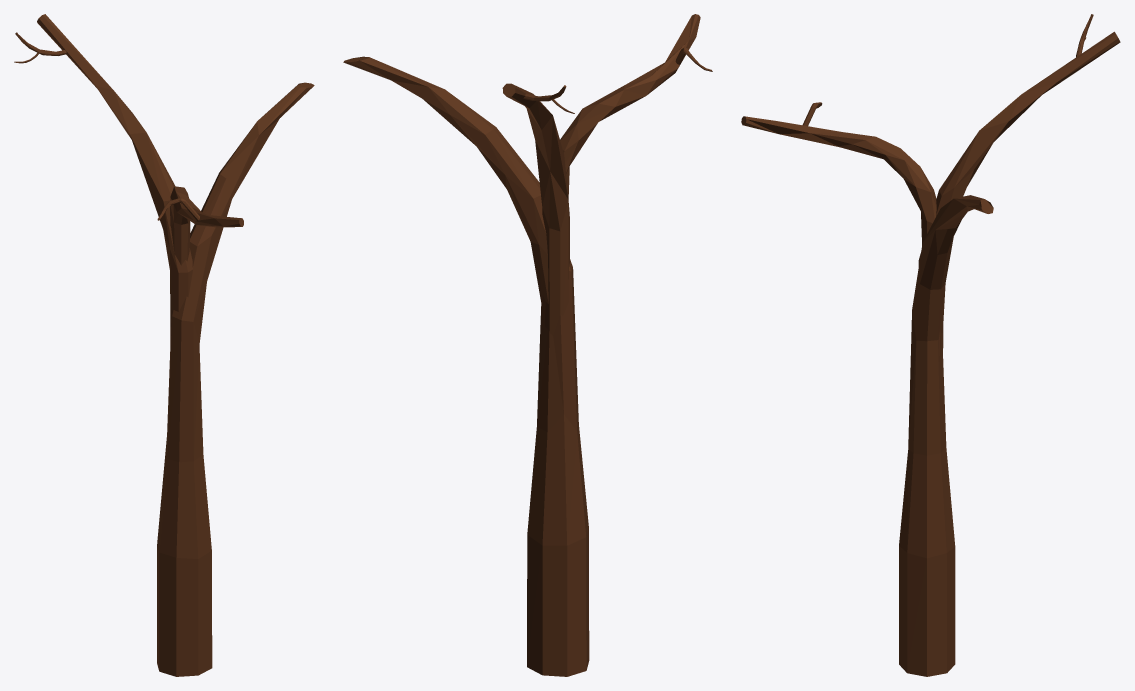
Rendered from deadTree.fbx.
The picture shows the model from 3 angles, left to right: view 1: azimuth 30°, elevation 25°; view 2: azimuth 150°, elevation 25°; view 3: azimuth 270°, elevation 25°; orthographic projection. The views are drawn at different scales.
Visible parts, largest first — view 1: Cylinder, Cylinder_1_3, Cylinder_2; view 2: Cylinder, Cylinder_1_3, Cylinder_2; view 3: Cylinder, Cylinder_1_3, Cylinder_2.
Part boxes in pixels (bbox=[...]): Cylinder: bbox=[157, 82, 314, 676]; Cylinder_1_3: bbox=[37, 14, 192, 346]; Cylinder_2: bbox=[170, 186, 243, 265]; Cylinder: bbox=[343, 56, 589, 676]; Cylinder_1_3: bbox=[502, 83, 569, 336]; Cylinder_2: bbox=[560, 14, 700, 198]; Cylinder: bbox=[899, 195, 993, 676]; Cylinder_1_3: bbox=[918, 31, 1120, 361]; Cylinder_2: bbox=[741, 116, 936, 245].
Size of the model in its own units: 791 by 1782 by 1008.
